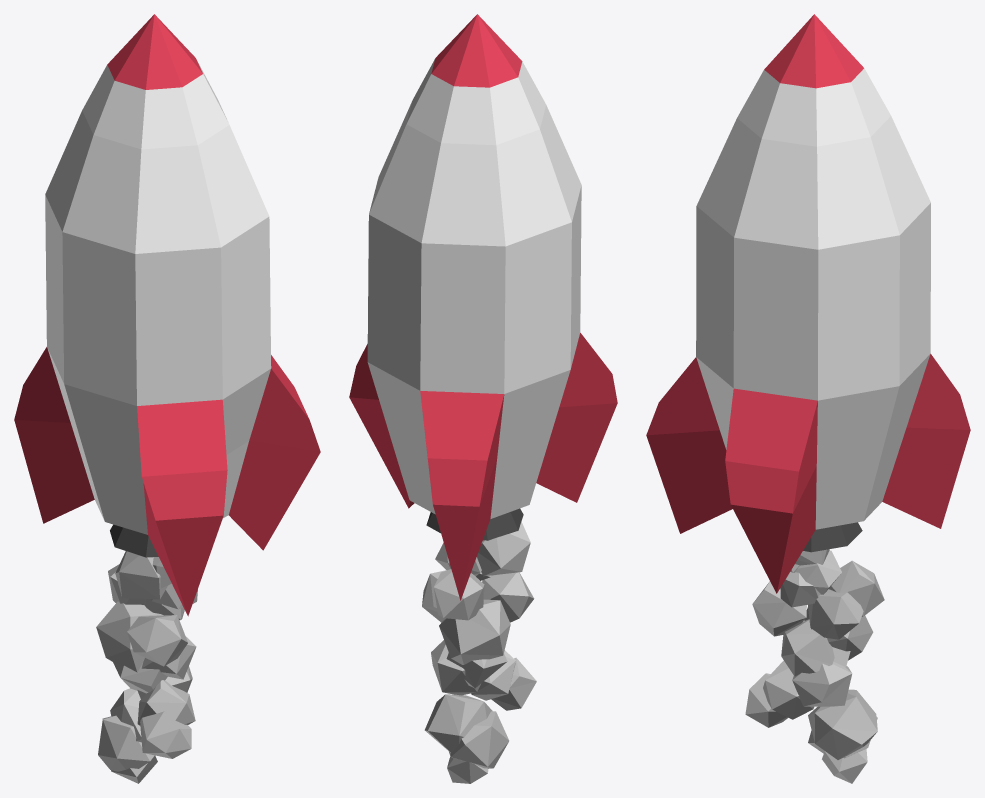
Rendered from rocket.glb.
3 renders of one model, left to right at view 1: azimuth 30°, elevation 25°; view 2: azimuth 150°, elevation 25°; view 3: azimuth 270°, elevation 25°, orthographic. The views are drawn at different scales.
Parts seen in each view (by area): view 1: Cylinder, Emitter|Icosphere|Dupli|24, Emitter|Icosphere|Dupli|23, Emitter|Icosphere|Dupli|16, Emitter|Icosphere|Dupli|18, Emitter|Icosphere|Dupli|29, Emitter|Icosphere|Dupli|19, Cylinder.001, Emitter|Icosphere|Dupli|21, Emitter|Icosphere|Dupli|17, Emitter|Icosphere|Dupli|22; view 2: Cylinder, Emitter|Icosphere|Dupli|23, Emitter|Icosphere|Dupli|17, Emitter|Icosphere|Dupli|16, Emitter|Icosphere|Dupli|29, Emitter|Icosphere|Dupli|26, Emitter|Icosphere|Dupli|24, Emitter|Icosphere|Dupli|20, Emitter|Icosphere|Dupli|18, Emitter|Icosphere|Dupli|19, Cylinder.001, Emitter|Icosphere|Dupli|21 (+2 smaller); view 3: Cylinder, Emitter|Icosphere|Dupli|17, Emitter|Icosphere|Dupli|22, Emitter|Icosphere|Dupli|20, Emitter|Icosphere|Dupli|25, Emitter|Icosphere|Dupli|24, Emitter|Icosphere|Dupli|26, Emitter|Icosphere|Dupli|19, Cylinder.001, Emitter|Icosphere|Dupli|18, Emitter|Icosphere|Dupli|28, Emitter|Icosphere|Dupli|27 (+2 smaller).
Part boxes in pixels (box(x1,y1,x2,y2)): Cylinder: box(14, 14, 320, 616); Emitter|Icosphere|Dupli|24: box(127, 615, 187, 666); Emitter|Icosphere|Dupli|23: box(96, 601, 163, 672); Emitter|Icosphere|Dupli|16: box(98, 715, 154, 771); Emitter|Icosphere|Dupli|18: box(140, 711, 191, 758); Emitter|Icosphere|Dupli|29: box(115, 551, 167, 599); Emitter|Icosphere|Dupli|19: box(137, 680, 195, 725); Cylinder.001: box(110, 524, 158, 557); Emitter|Icosphere|Dupli|21: box(113, 662, 167, 693); Emitter|Icosphere|Dupli|17: box(110, 688, 141, 742); Emitter|Icosphere|Dupli|22: box(141, 636, 196, 679); Cylinder: box(349, 14, 617, 600); Emitter|Icosphere|Dupli|23: box(439, 599, 510, 664); Emitter|Icosphere|Dupli|17: box(424, 694, 492, 752); Emitter|Icosphere|Dupli|16: box(449, 711, 509, 768); Emitter|Icosphere|Dupli|29: box(477, 521, 530, 576); Emitter|Icosphere|Dupli|26: box(433, 569, 484, 620); Emitter|Icosphere|Dupli|24: box(482, 572, 534, 622); Emitter|Icosphere|Dupli|20: box(431, 640, 480, 695); Emitter|Icosphere|Dupli|18: box(491, 657, 536, 710); Emitter|Icosphere|Dupli|19: box(471, 650, 515, 700); Cylinder.001: box(426, 508, 523, 540); Emitter|Icosphere|Dupli|21: box(446, 653, 507, 688); Cylinder: box(646, 14, 970, 593); Emitter|Icosphere|Dupli|17: box(808, 689, 877, 759); Emitter|Icosphere|Dupli|22: box(781, 619, 834, 676); Emitter|Icosphere|Dupli|20: box(792, 661, 852, 706); Emitter|Icosphere|Dupli|25: box(808, 589, 863, 639); Emitter|Icosphere|Dupli|24: box(752, 581, 806, 636); Emitter|Icosphere|Dupli|26: box(829, 560, 884, 616); Emitter|Icosphere|Dupli|19: box(763, 660, 814, 719); Cylinder.001: box(803, 522, 862, 552); Emitter|Icosphere|Dupli|18: box(745, 673, 787, 727); Emitter|Icosphere|Dupli|28: box(795, 550, 841, 594); Emitter|Icosphere|Dupli|27: box(780, 572, 820, 607).
Size of the model in its own units: 2.89 by 9.05 by 3.47.
